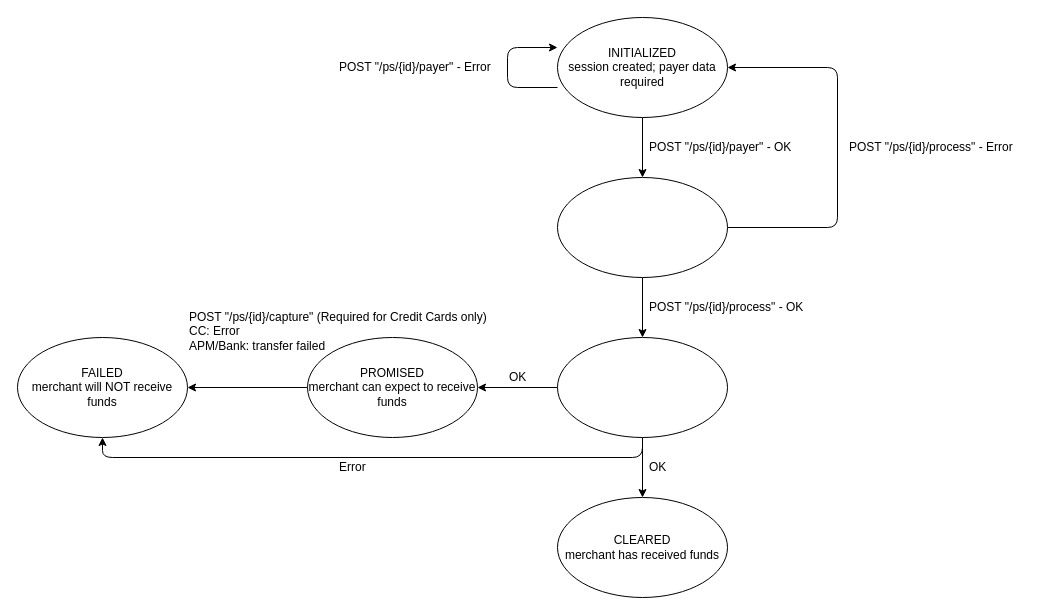
The diagram is 1045 pixels wide and 615 high, and some of its shapes have lost their labels. Here are the shapes that lost their labels. From the top down, the centre of each, then its label:
At (x=642, y=227): "READY_FOR_PROCESS payer data collected; ready to send session to processor".
At (x=642, y=387): "PROCESSING additional steps required".
